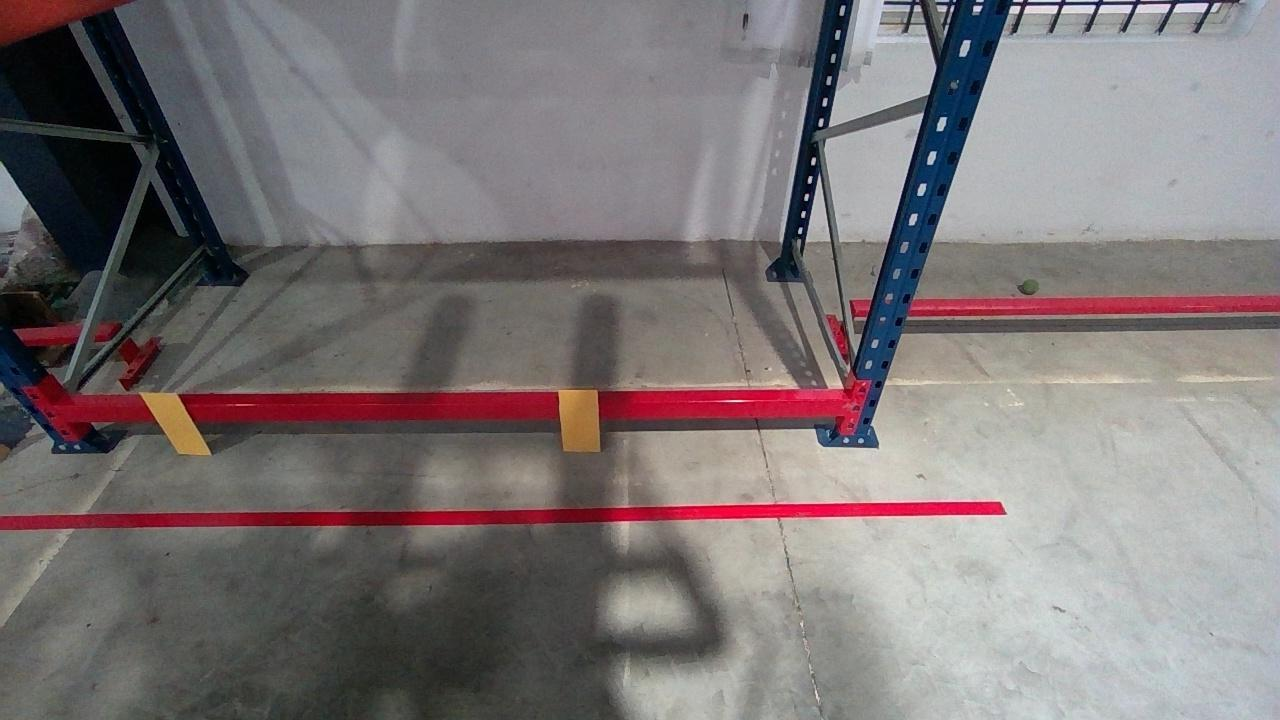h_rack: (42, 398, 850, 422)
orange_strip: (136, 393, 214, 455), (555, 388, 600, 450)
red_line: (4, 500, 1004, 527)
